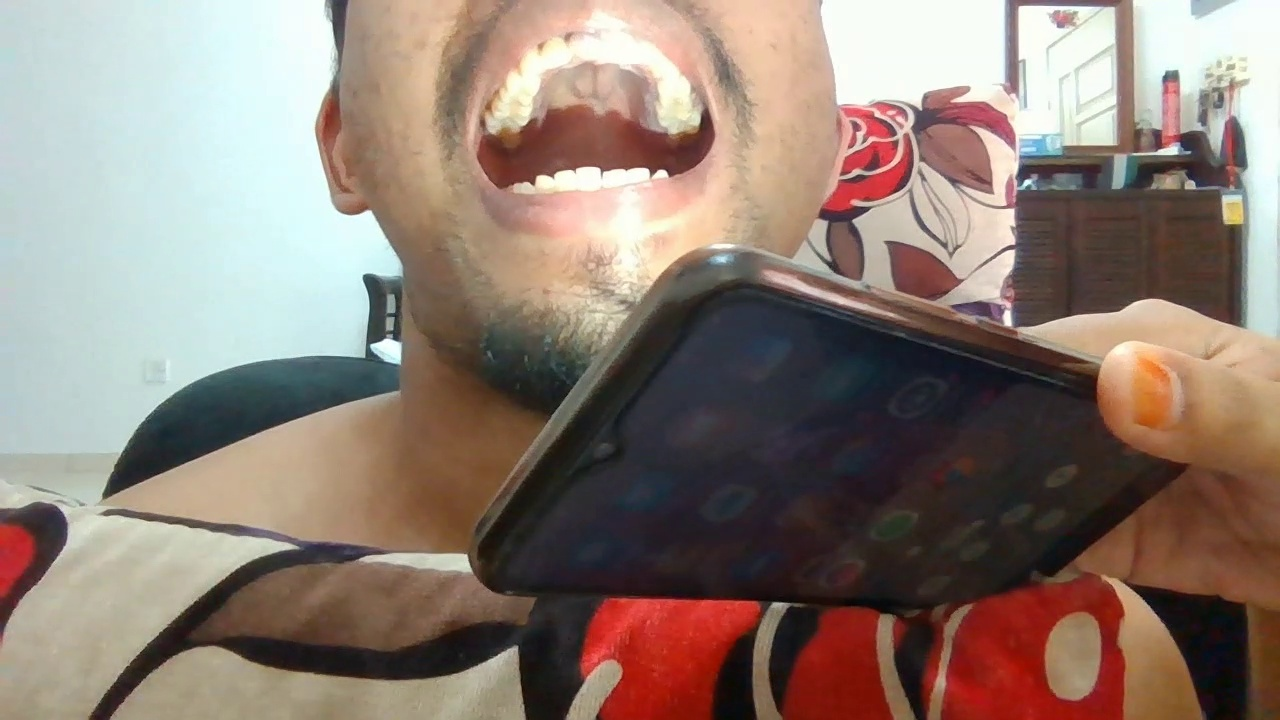1st Molar: (491, 101, 532, 117)
1st Premolar: (506, 72, 540, 94), (520, 182, 535, 194)
2nd Molar: (484, 111, 525, 134)
2nd Premolar: (499, 88, 533, 105)
Canine: (520, 50, 540, 77), (535, 174, 554, 194), (651, 167, 671, 180)
Central Incisor: (568, 30, 603, 59), (577, 166, 603, 192), (603, 168, 627, 190)
Lateral Incisor: (540, 38, 573, 67), (554, 169, 577, 192), (627, 167, 651, 185)
